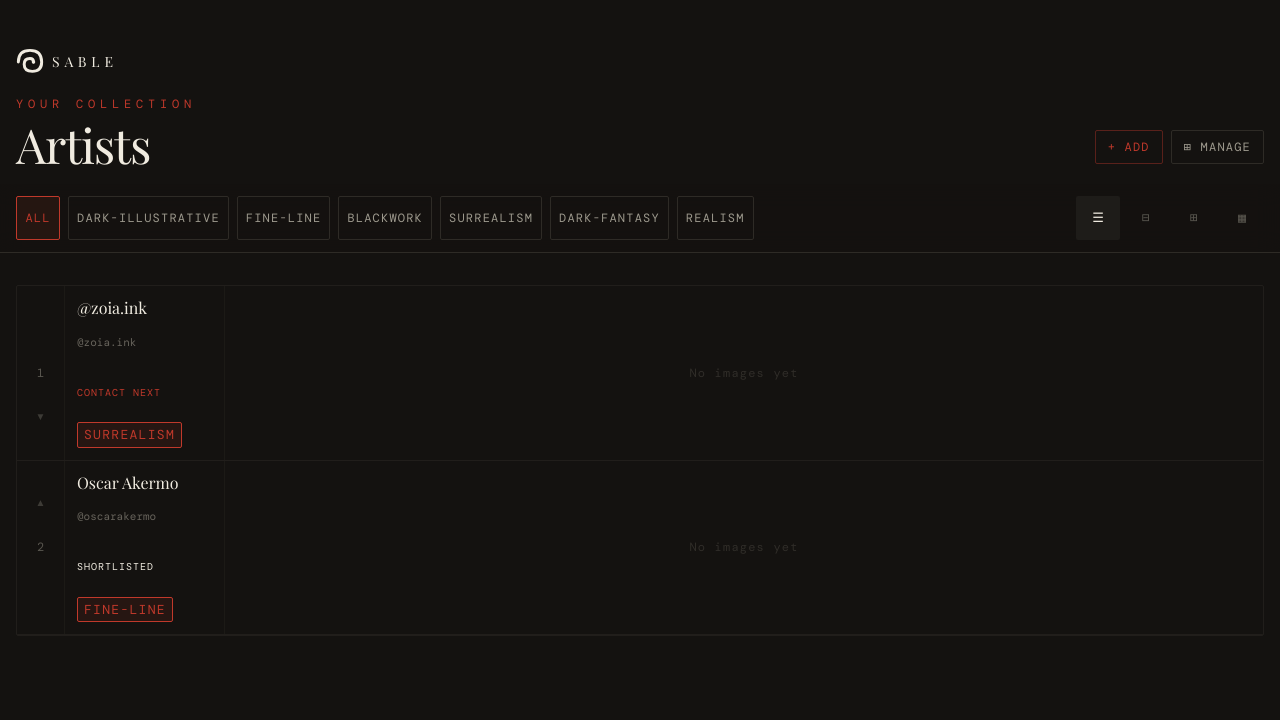
Scenario: guards transitions that would orphan an active keyboard drag (#74) › does not disable anything before a drag has ever started
Click the button titled "Grid view" at coordinates (1194, 218), box [1172,196,1216,240]
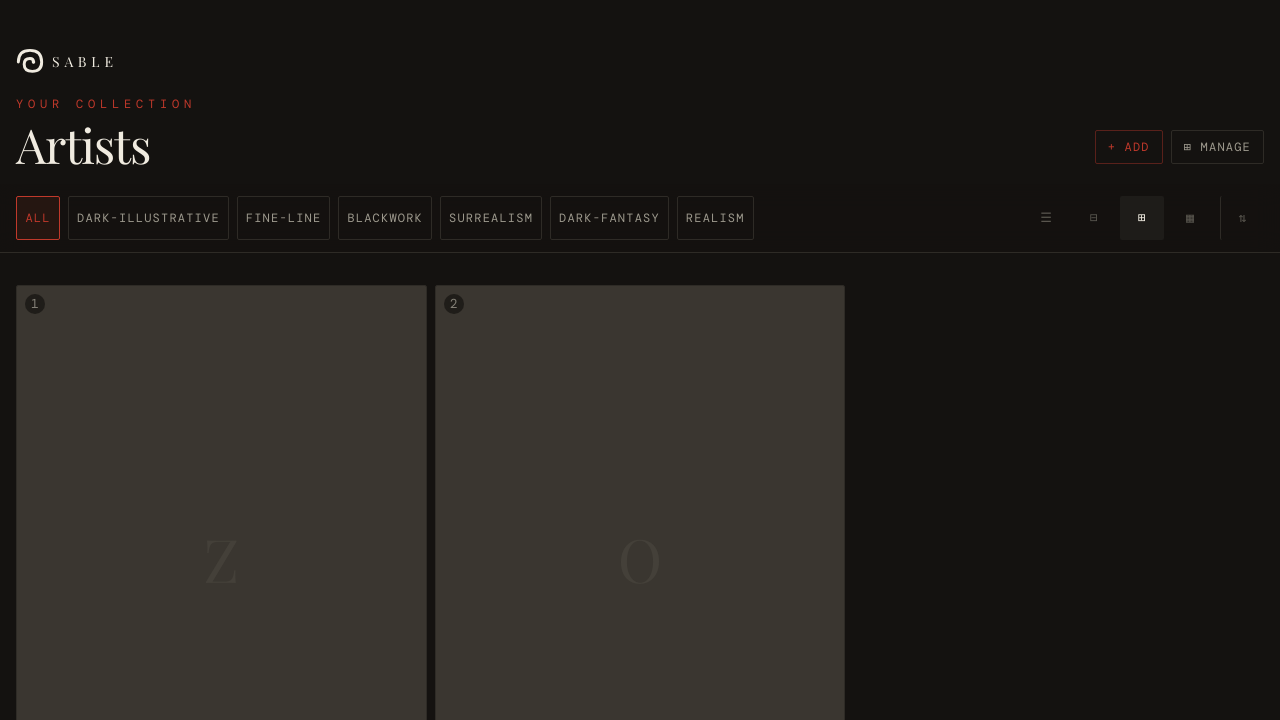
Expected: the button "⊞ Manage" is enabled, [1171,130,1264,164]
Expected: the button named "reorder" is enabled, [1220,196,1264,240]
